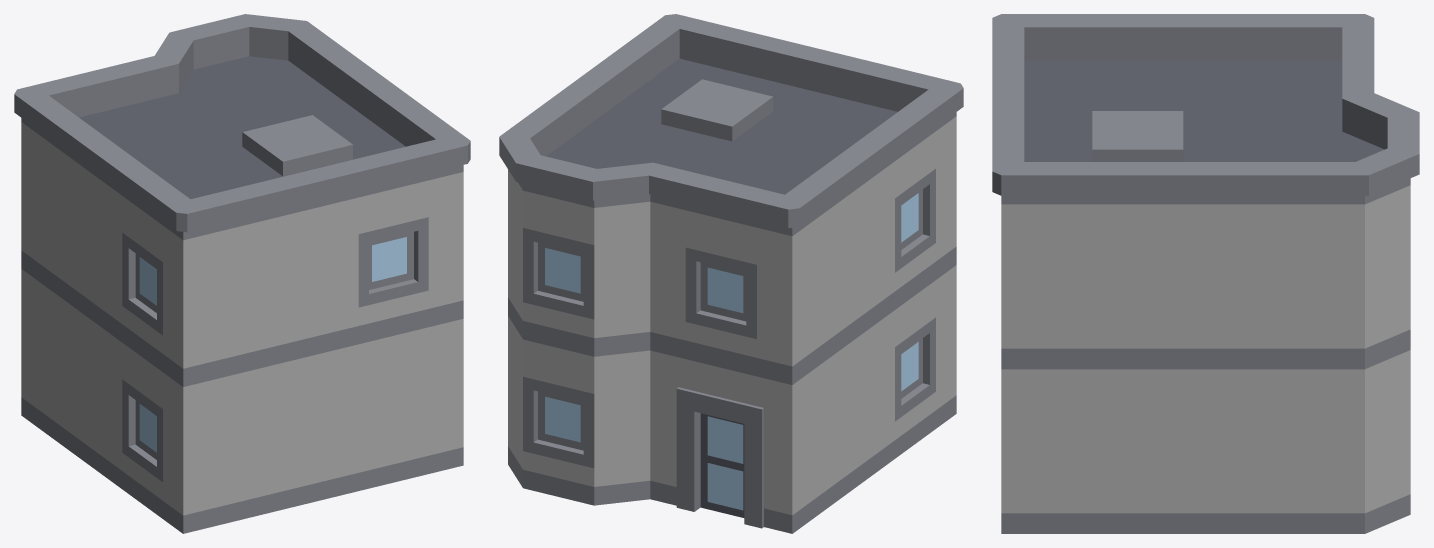
Rendered from small_buildingB.fbx.
3 renders of one model, left to right at view 1: azimuth 30°, elevation 25°; view 2: azimuth 150°, elevation 25°; view 3: azimuth 270°, elevation 25°, orthographic. The views are drawn at different scales.
Parts seen in each view (by area): view 1: small_buildingB; view 2: small_buildingB; view 3: small_buildingB.
Boxes of the visible parts, x1,y1,x2,y2 form: small_buildingB: [14, 14, 470, 533]; small_buildingB: [499, 14, 963, 533]; small_buildingB: [992, 14, 1419, 533].
Bounding box in the file's own units: 8.4 × 8.8 × 9.4.
